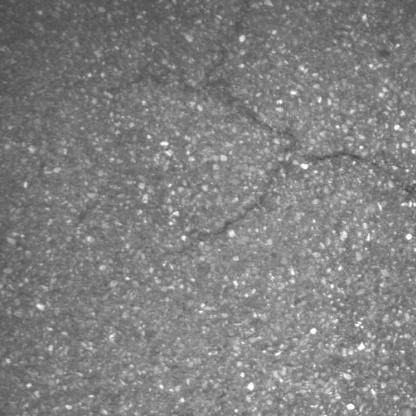Cracks: (100, 44, 393, 266)
